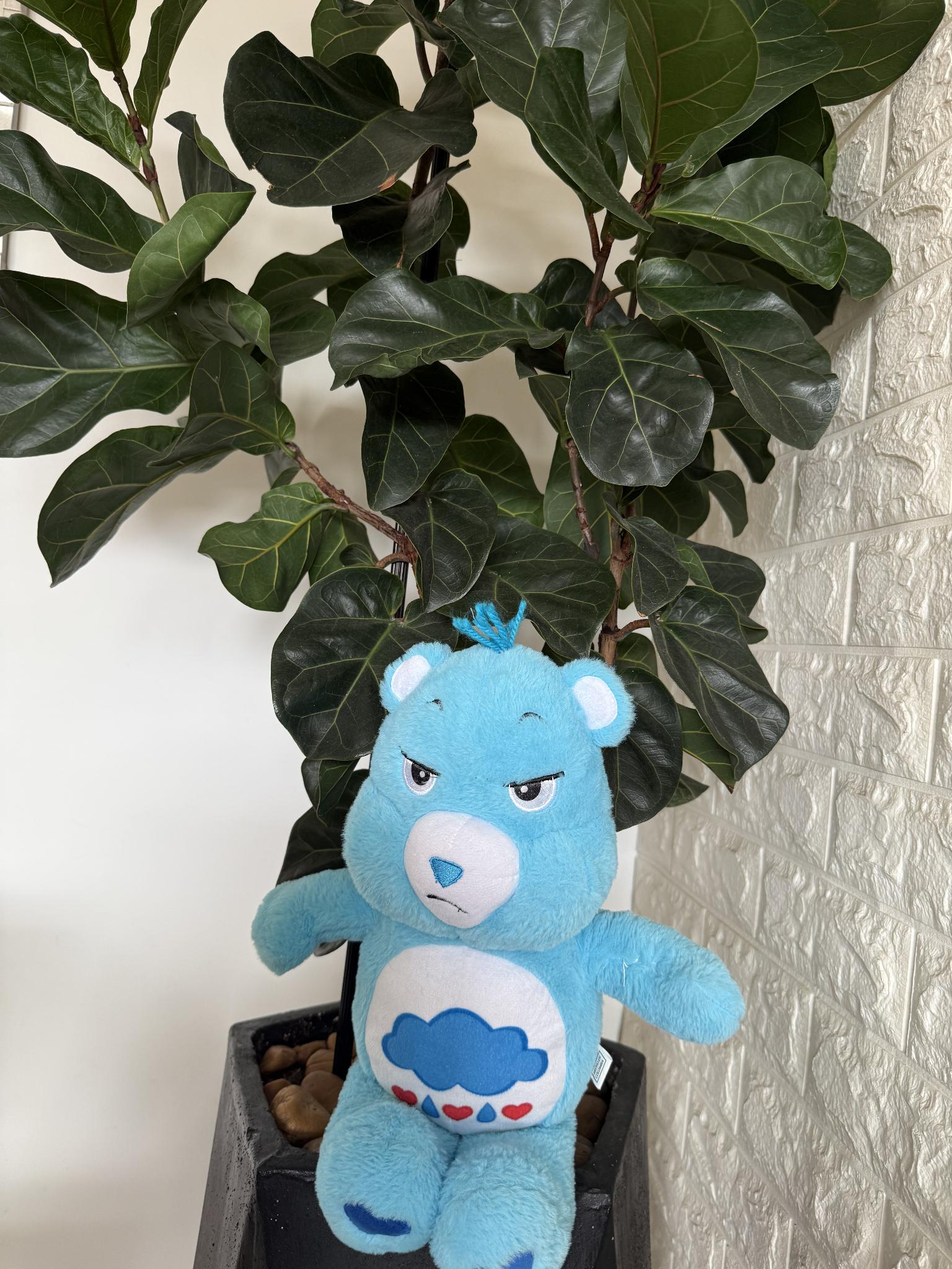peluche_Juan Jose: (250, 596, 743, 1269)
